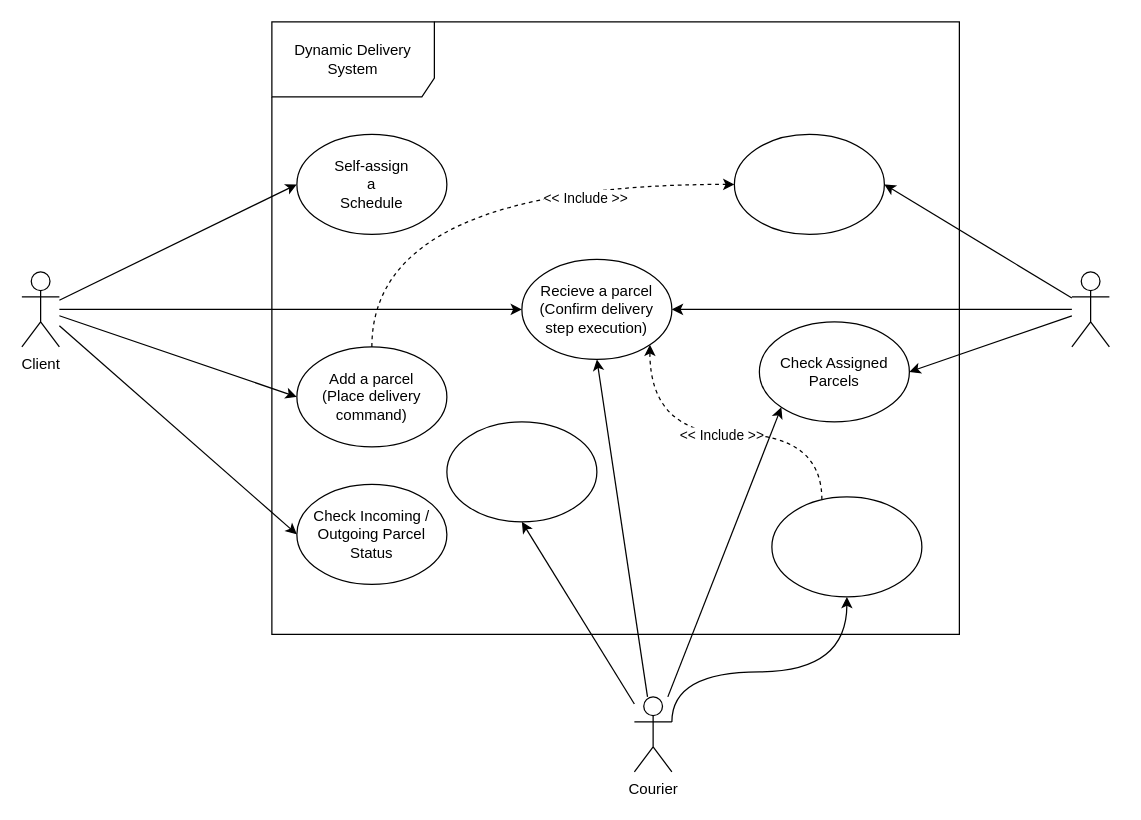
Image size: 1141x820. Some labels were removed from this diagram. The shapes that lost their labels are listed below. From the top down, each one's centre as x and y in pixels, then its label:
At [808,183]: "Assign a parcel to courier".
At [1090,309]: "Manager".
At [521,471]: "Get Nearest Available Destination".
At [846,546]: "Deliver parcel to target".
